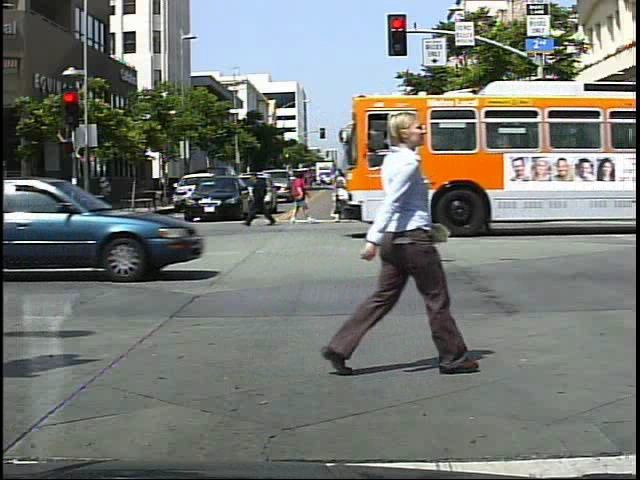person: (322, 83, 451, 383), (329, 164, 366, 228), (247, 165, 278, 233), (285, 166, 315, 229), (550, 160, 573, 211)
